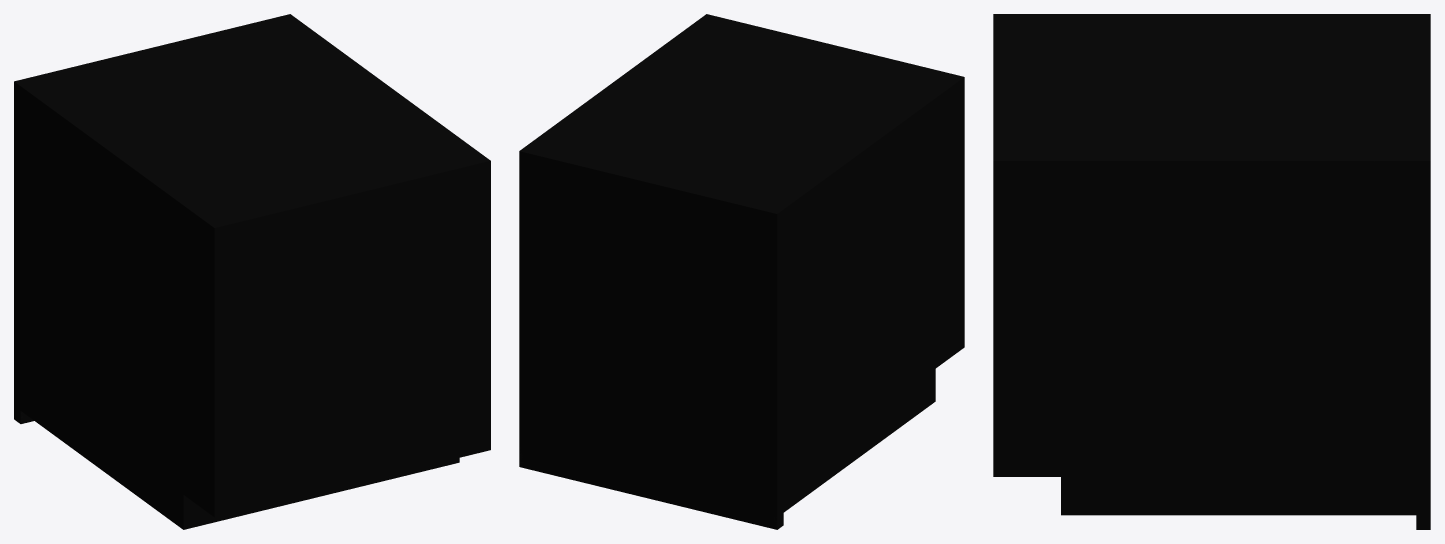
Rendered from KitchenCupboardD.fbx.
3 renders of one model, left to right at view 1: azimuth 30°, elevation 25°; view 2: azimuth 150°, elevation 25°; view 3: azimuth 270°, elevation 25°, orthographic. The views are drawn at different scales.
Visible parts, largest first — view 1: node_id5; view 2: node_id5; view 3: node_id5.
Part boxes in pixels (x1,y1,x2,y2): node_id5: (14,14,490,529); node_id5: (519,14,964,529); node_id5: (993,14,1430,529).
Bounding box in the file's own units: 0.4379 × 0.512 × 0.5505.
1 material, 1 textured.
